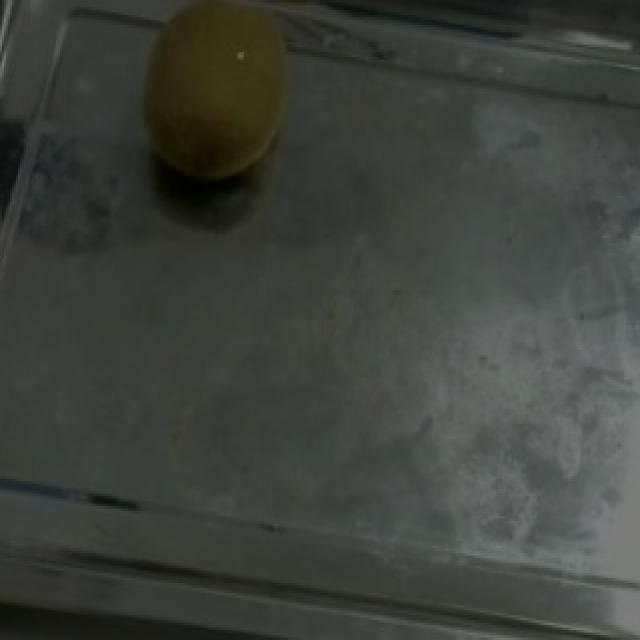Fruit: (110, 0, 320, 211)
